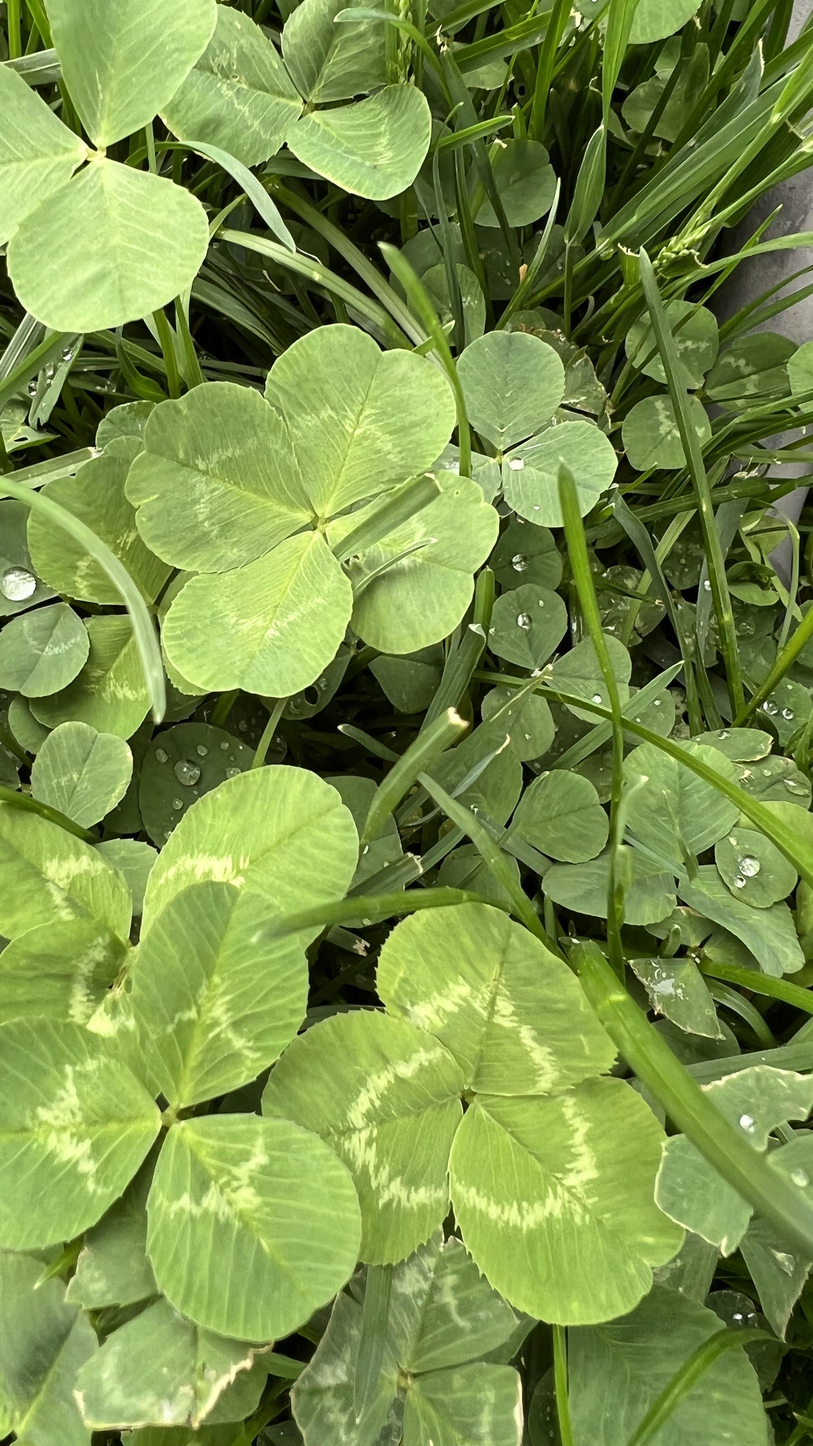4-Leaf-Clovers: (139, 326, 500, 705)
